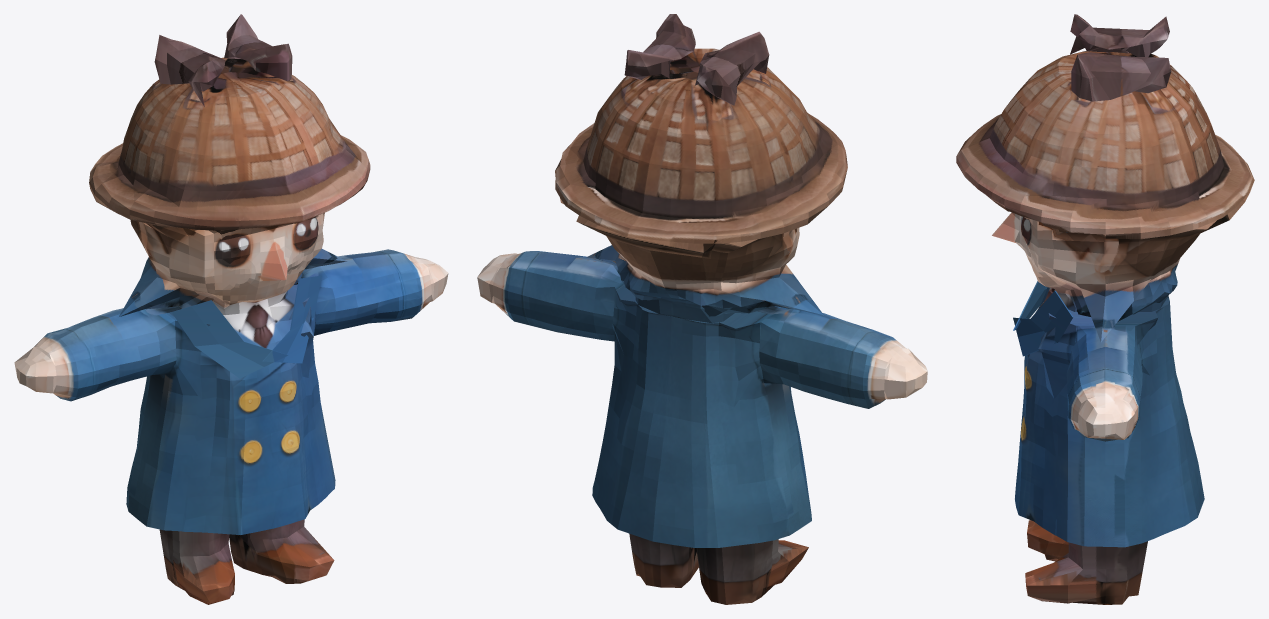
Rendered from Detective_Retopology_v2.glb.
The picture shows the model from 3 angles, left to right: view 1: azimuth 30°, elevation 25°; view 2: azimuth 150°, elevation 25°; view 3: azimuth 270°, elevation 25°; orthographic projection. The views are drawn at different scales.
Visible parts, largest first — view 1: 02_Coat_Shoulder_Sleeve_Hip_Loops, 03_Hat_Brim_Crown_Rings, 01_Head_EyeLoop_Patches, 05_Lapel_R_Fold_Patch, 04_Bow_L_Patches, 04_Bow_R_Patches, 05_Lapel_L_Fold_Patch; view 2: 02_Coat_Shoulder_Sleeve_Hip_Loops, 03_Hat_Brim_Crown_Rings, 01_Head_EyeLoop_Patches, 04_Bow_L_Patches, 04_Bow_R_Patches; view 3: 02_Coat_Shoulder_Sleeve_Hip_Loops, 03_Hat_Brim_Crown_Rings, 01_Head_EyeLoop_Patches, 04_Bow_R_Patches, 04_Bow_L_Patches, 05_Lapel_L_Fold_Patch, 05_Lapel_R_Fold_Patch.
Boxes of the visible parts, x1,y1,x2,y2 form: 02_Coat_Shoulder_Sleeve_Hip_Loops: (14,249,448,604); 03_Hat_Brim_Crown_Rings: (89,57,370,230); 01_Head_EyeLoop_Patches: (119,213,346,316); 05_Lapel_R_Fold_Patch: (171,300,288,378); 04_Bow_L_Patches: (154,35,225,106); 04_Bow_R_Patches: (224,14,292,81); 05_Lapel_L_Fold_Patch: (262,275,321,363); 02_Coat_Shoulder_Sleeve_Hip_Loops: (477,251,927,604); 03_Hat_Brim_Crown_Rings: (555,48,847,243); 01_Head_EyeLoop_Patches: (560,198,823,316); 04_Bow_L_Patches: (695,31,769,105); 04_Bow_R_Patches: (624,14,695,79); 02_Coat_Shoulder_Sleeve_Hip_Loops: (1015,287,1204,604); 03_Hat_Brim_Crown_Rings: (956,50,1254,239); 01_Head_EyeLoop_Patches: (992,180,1254,342); 04_Bow_R_Patches: (1071,52,1171,101); 04_Bow_L_Patches: (1070,14,1169,57); 05_Lapel_L_Fold_Patch: (1013,290,1073,356); 05_Lapel_R_Fold_Patch: (1013,281,1047,330).
Size of the model in its own units: 0.8185 by 0.9797 by 0.4872.
1 material, 1 textured.
